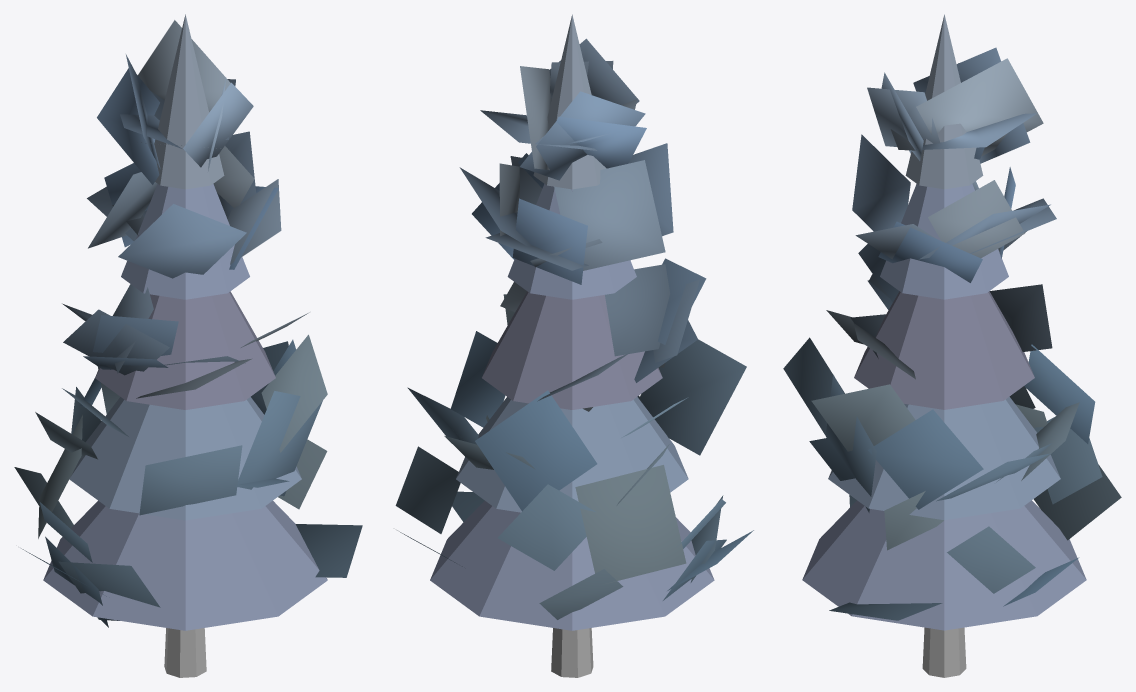
Rendered from tree_fir.glb.
3 renders of one model, left to right at view 1: azimuth 30°, elevation 25°; view 2: azimuth 150°, elevation 25°; view 3: azimuth 270°, elevation 25°, orthographic.
Visible parts, largest first — view 1: tree_fir; view 2: tree_fir; view 3: tree_fir.
Boxes of the visible parts, box(x1,y1,x2,y2) form: tree_fir: box(14, 14, 362, 677); tree_fir: box(395, 14, 753, 677); tree_fir: box(783, 14, 1121, 677).
Bounding box in the file's own units: 3.29 × 6.6 × 3.09.
